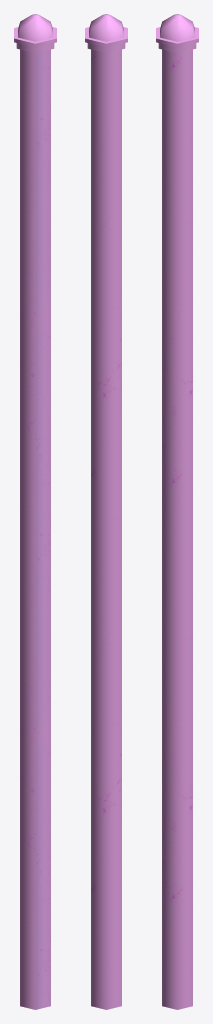
The model's file is FenceEndPole_01_SM_Low.fbx.
The picture shows the model from 3 angles, left to right: view 1: azimuth 90°, elevation 25°; view 2: azimuth 210°, elevation 25°; view 3: azimuth 270°, elevation 25°; orthographic projection.
Visible parts, largest first — view 1: End_Pole_Geo; view 2: End_Pole_Geo; view 3: End_Pole_Geo.
Part boxes in pixels (bbox=[...]): End_Pole_Geo: bbox=[14, 14, 56, 1009]; End_Pole_Geo: bbox=[85, 14, 127, 1009]; End_Pole_Geo: bbox=[156, 14, 198, 1009].
Size of the model in its own units: 20.11 by 442 by 17.41.
